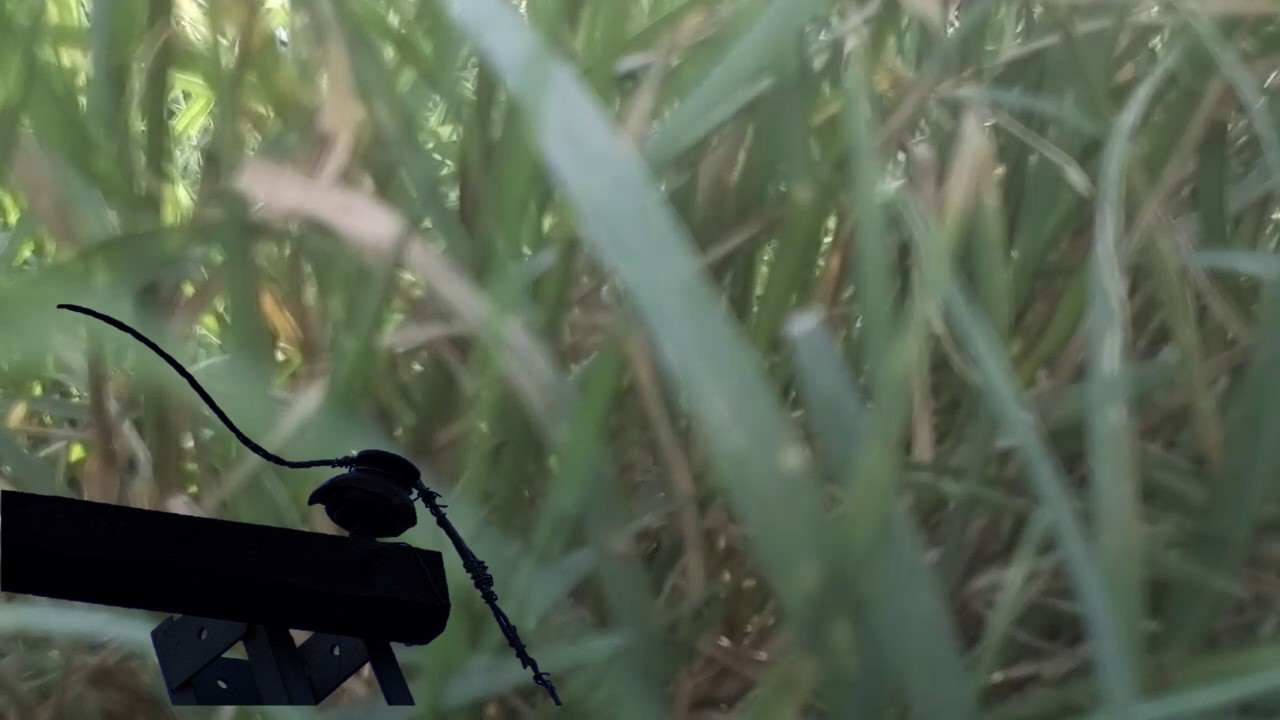defect_pin: (304, 444, 425, 546)
